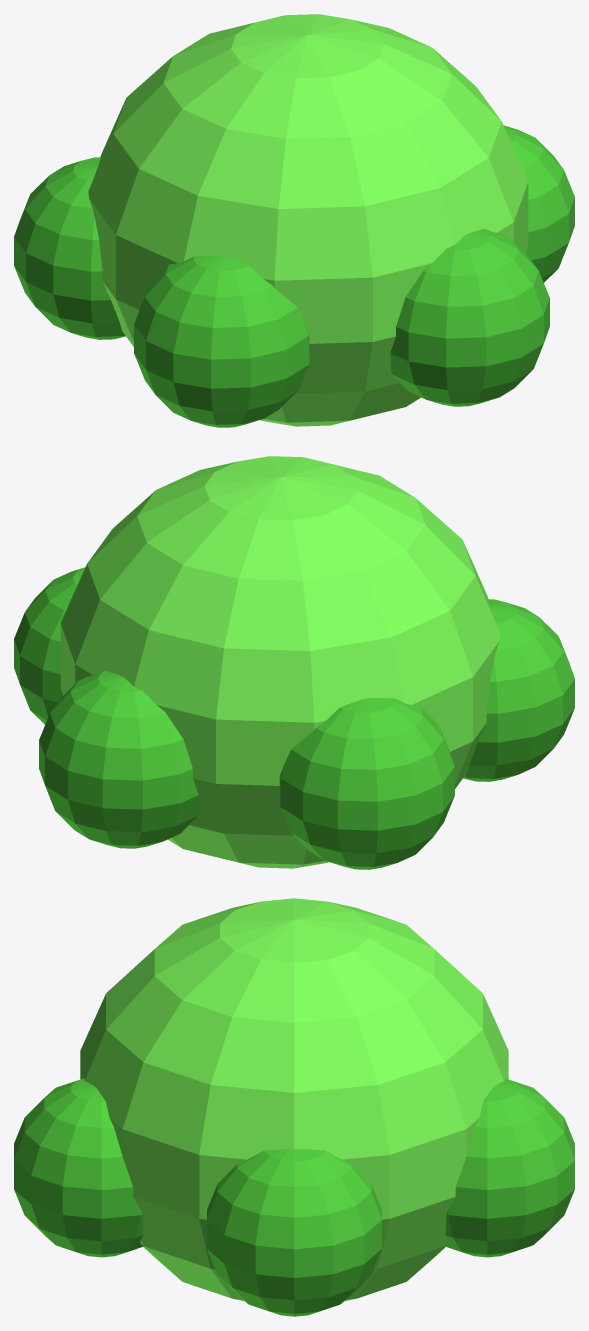
The model's file is sticky.glb.
3 views of the same model, one above another, from view 1: azimuth 30°, elevation 25°; view 2: azimuth 150°, elevation 25°; view 3: azimuth 270°, elevation 25° (orthographic).
Parts seen in each view (by area): view 1: sticky; view 2: sticky; view 3: sticky.
Boxes of the visible parts, <box> form: sticky: <box>14,14,574,427</box>; sticky: <box>14,456,574,869</box>; sticky: <box>14,898,574,1316</box>.
Bounding box in the file's own units: 0.2695 × 0.2 × 0.2766.
